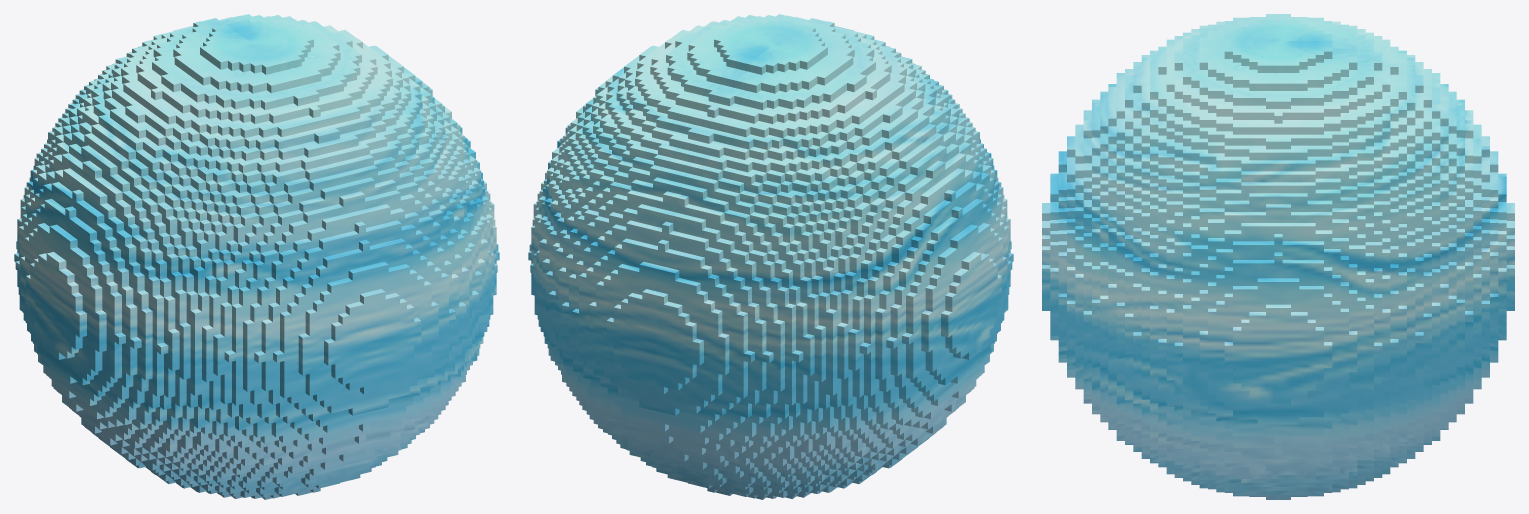
The model's file is 07_Uranus.fbx.
3 views of the same model, side by side, from view 1: azimuth 30°, elevation 25°; view 2: azimuth 150°, elevation 25°; view 3: azimuth 270°, elevation 25° (orthographic).
Parts seen in each view (by area): view 1: 07_Uranus; view 2: 07_Uranus; view 3: 07_Uranus.
Boxes of the visible parts, box(x1,y1,x2,y2) form: 07_Uranus: box(14, 14, 499, 499); 07_Uranus: box(528, 14, 1013, 499); 07_Uranus: box(1042, 14, 1514, 499).
Bounding box in the file's own units: 178 × 178 × 178.
Materials: 1 (1 with a texture image).
